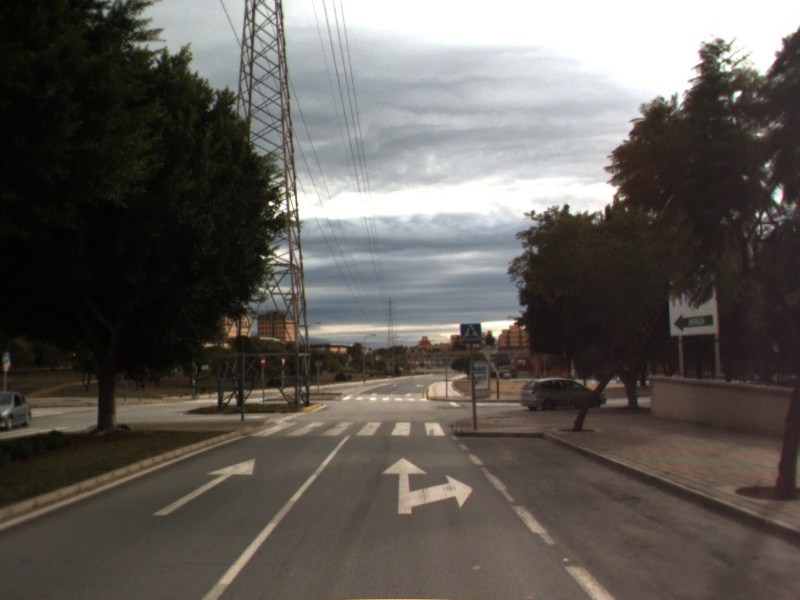STRAIGHT: (151, 456, 257, 518)
STRAIGHT_RIGHT: (379, 455, 476, 516)
